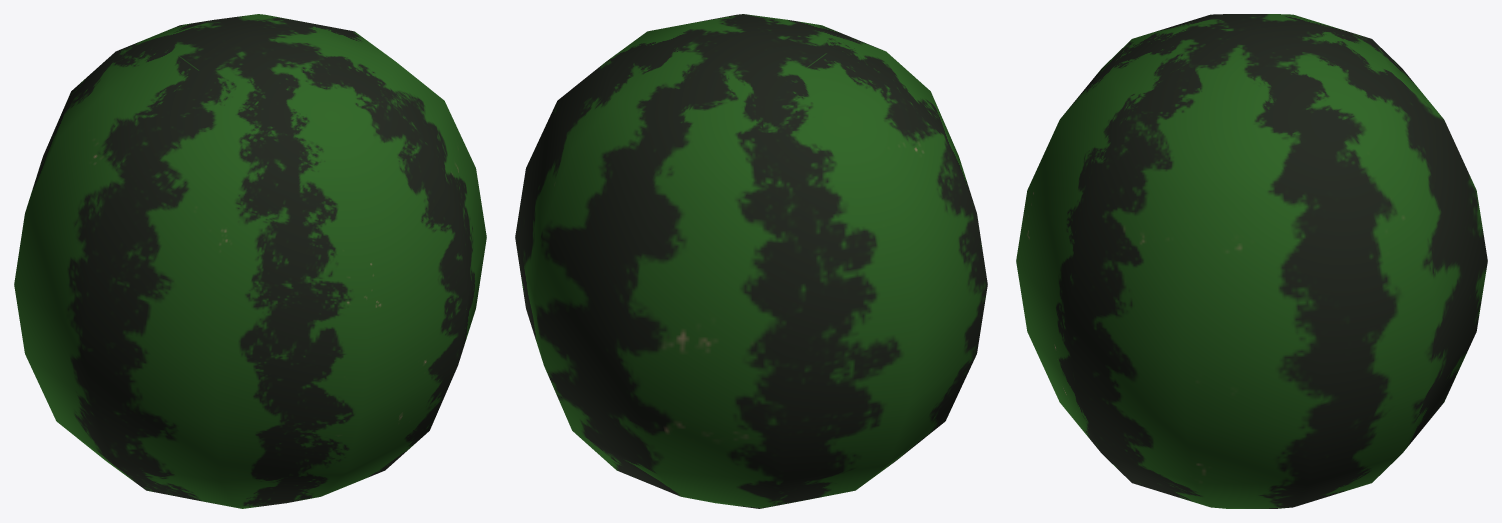
The model's file is 20s_Watermelon.fbx.
3 renders of one model, left to right at view 1: azimuth 30°, elevation 25°; view 2: azimuth 150°, elevation 25°; view 3: azimuth 270°, elevation 25°, orthographic.
Visible parts, largest first — view 1: 20s_Watermelon; view 2: 20s_Watermelon; view 3: 20s_Watermelon.
Boxes of the visible parts, x1,y1,x2,y2 form: 20s_Watermelon: (14,14,486,508); 20s_Watermelon: (515,14,987,508); 20s_Watermelon: (1016,14,1487,508).
Size of the model in its own units: 72.31 by 77.03 by 72.92.
